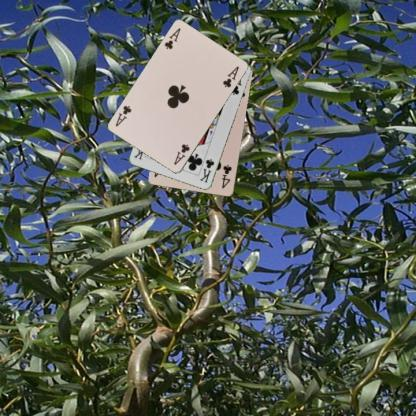4c: (219, 162, 233, 190)
Ac: (162, 25, 182, 51), (171, 142, 191, 166)
Kc: (197, 157, 216, 184)
